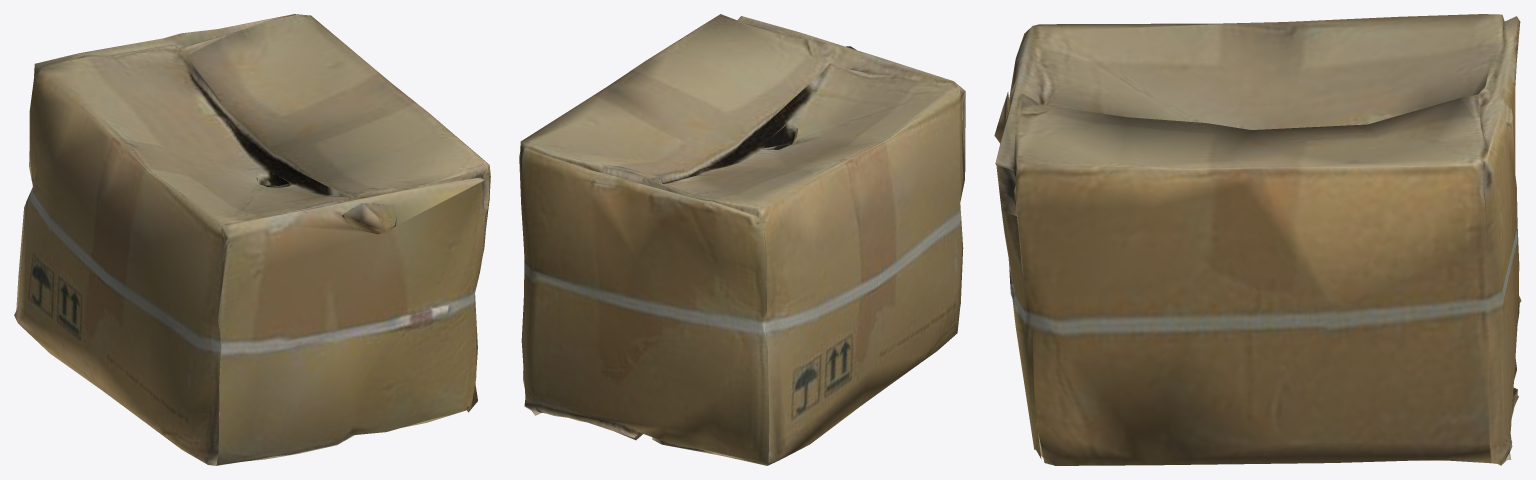
The model's file is ph_cardboard_box_01.glb.
The picture shows the model from 3 angles, left to right: view 1: azimuth 30°, elevation 25°; view 2: azimuth 150°, elevation 25°; view 3: azimuth 270°, elevation 25°; orthographic projection. The views are drawn at different scales.
Parts seen in each view (by area): view 1: cardboard_box_01; view 2: cardboard_box_01; view 3: cardboard_box_01.
Boxes of the visible parts, x1,y1,x2,y2 form: cardboard_box_01: [14, 14, 490, 465]; cardboard_box_01: [519, 14, 965, 465]; cardboard_box_01: [994, 14, 1521, 465].
Size of the model in its own units: 0.3863 by 0.34 by 0.5156.
1 material, 1 textured.
